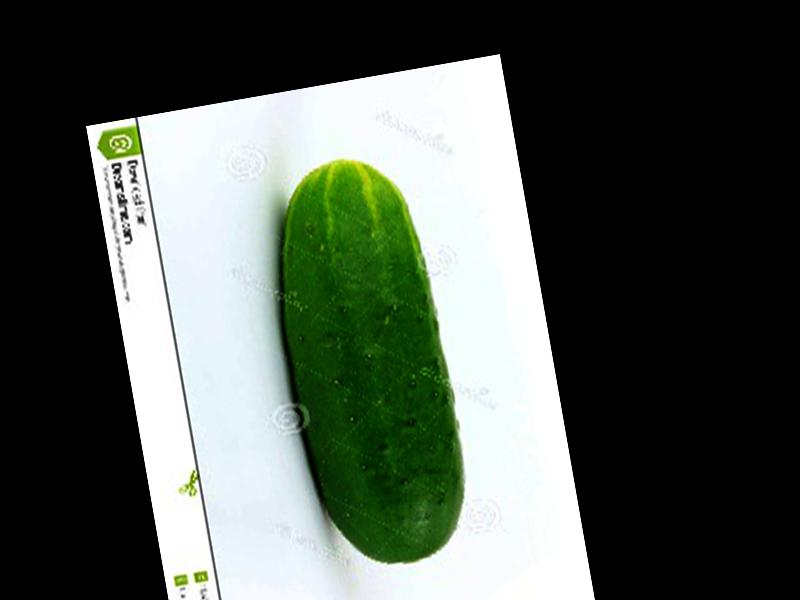Cucumber: (256, 150, 477, 578)
